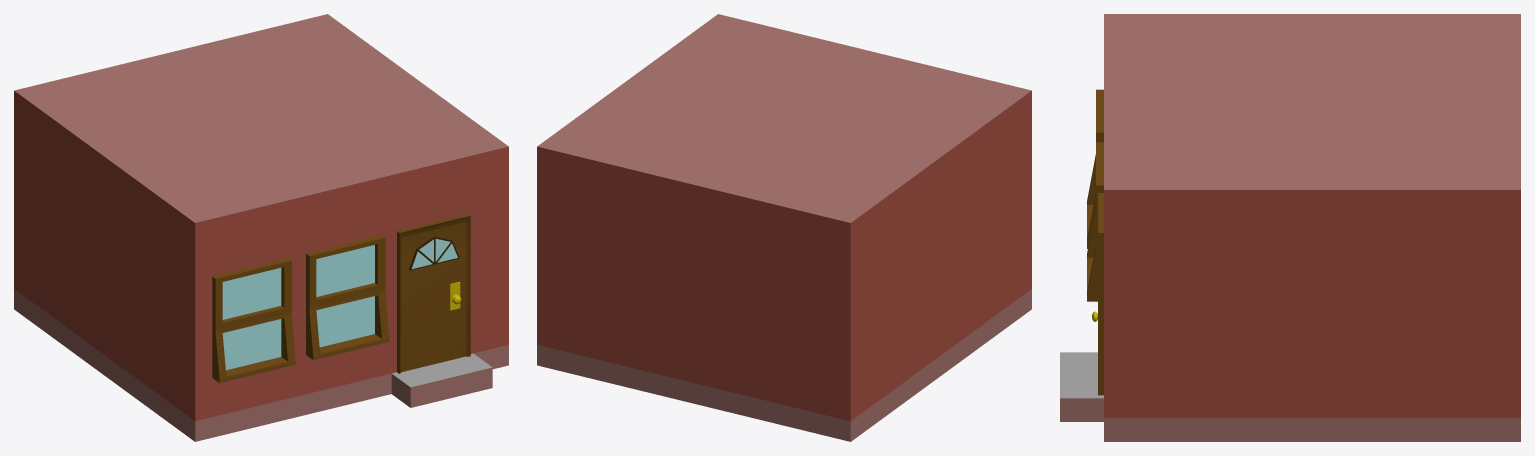
Rendered from Ground.fbx.
3 renders of one model, left to right at view 1: azimuth 30°, elevation 25°; view 2: azimuth 150°, elevation 25°; view 3: azimuth 270°, elevation 25°, orthographic. The views are drawn at different scales.
Parts seen in each view (by area): view 1: pCube6, pCube3, pCube8, pCube7, pCylinder1; view 2: pCube6; view 3: pCube6, pCube7, pCube3, pCube8.
Part boxes in pixels (left/top/right/bottom): pCube6: left=14, top=14, right=508, bottom=441; pCube3: left=397, top=214, right=470, bottom=373; pCube8: left=212, top=258, right=295, bottom=382; pCube7: left=306, top=235, right=389, bottom=360; pCylinder1: left=409, top=236, right=459, bottom=270; pCube6: left=537, top=14, right=1031, bottom=441; pCube6: left=1060, top=14, right=1520, bottom=441; pCube7: left=1087, top=142, right=1103, bottom=301; pCube3: left=1098, top=193, right=1103, bottom=395; pCube8: left=1087, top=89, right=1103, bottom=248.
Size of the model in its own units: 25 by 16.67 by 27.64.
